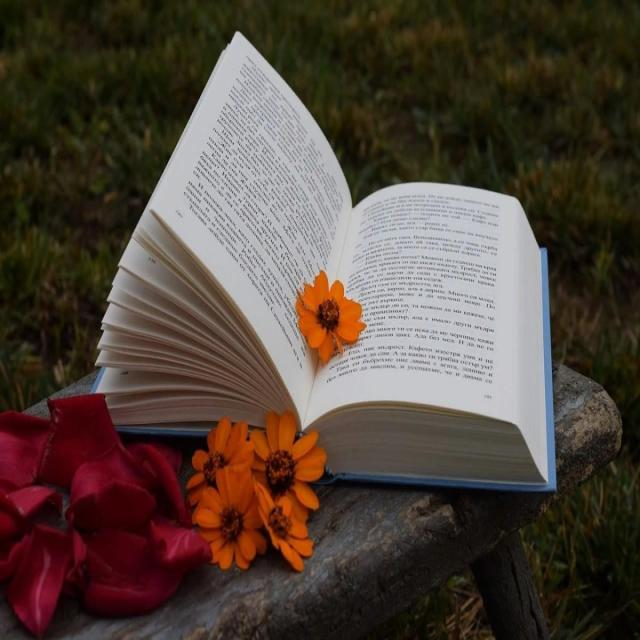book: (85, 0, 606, 506)
